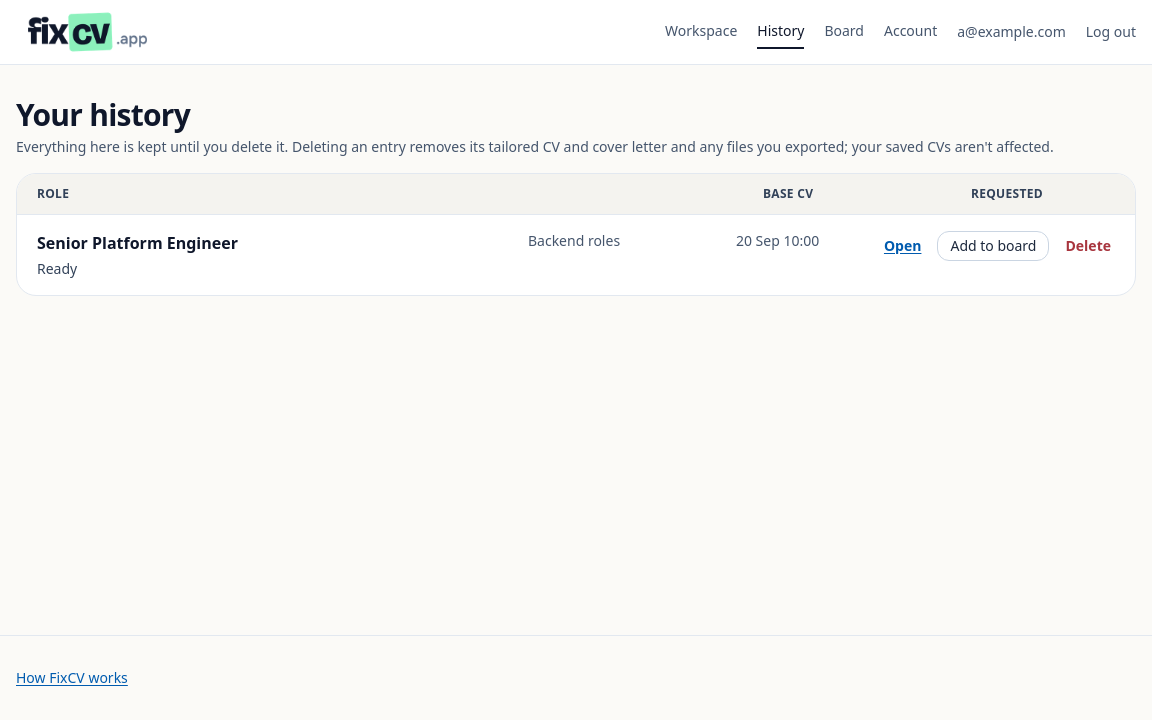
Scenario: HistoryPage — deleting an entry (AC-45) › confirming sends DELETE with the bearer; the row says "Deleting…" and stays until the answer
Expected: the text "Senior Platform Engineer" is shown, [37,231,238,255]
Click the button "Delete".
click(1088, 246)  # box [1062,236,1115,256]
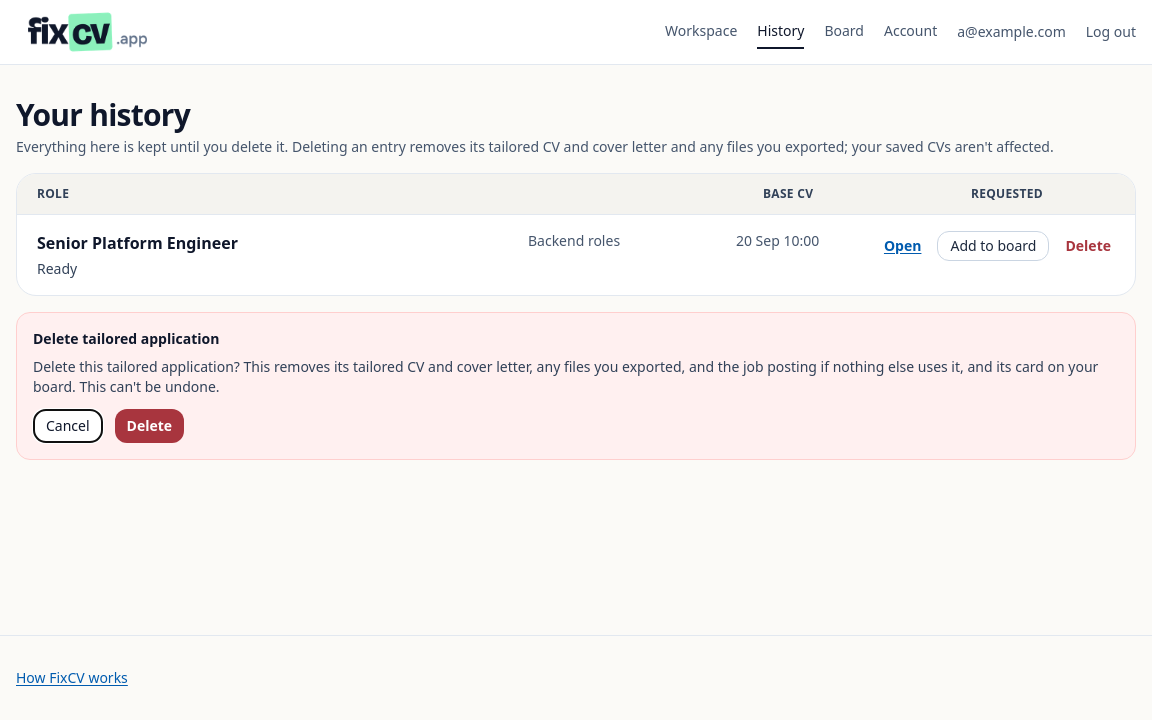
Click the button "Delete" below "Delete tailored application".
click(149, 426)  # box [115,409,184,443]
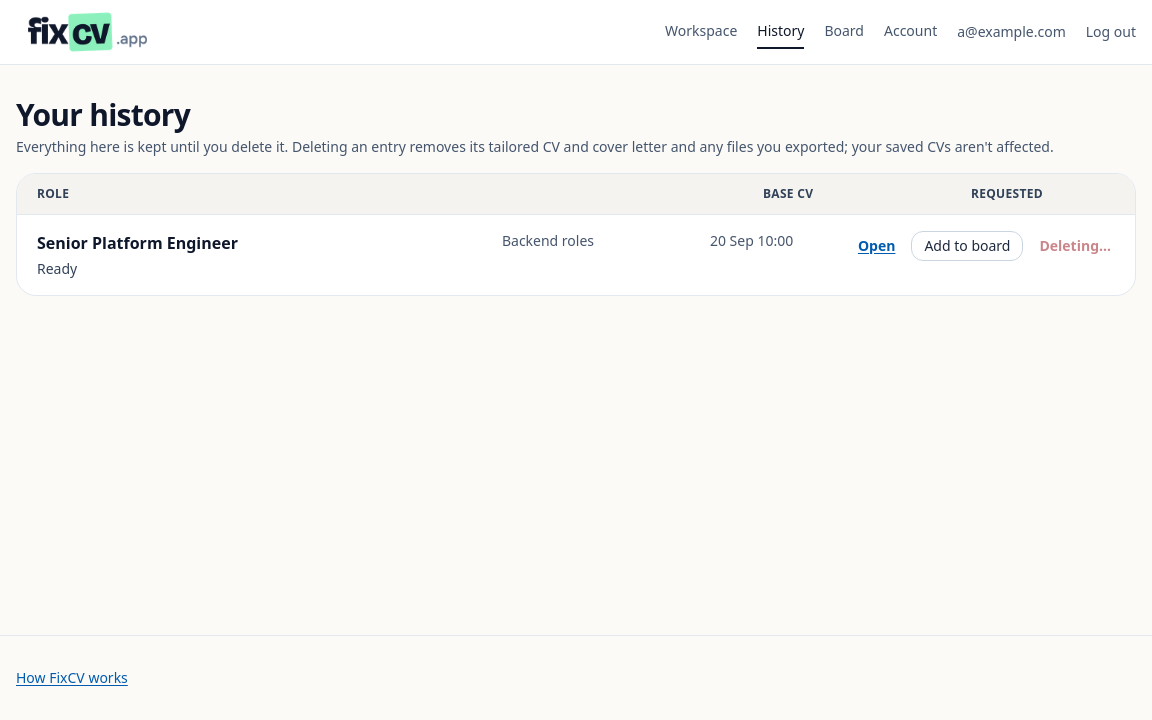
Expected: the text "Senior Platform Engineer" is shown, [37,231,238,255]
Expected: the button "Deleting…" is shown, [1035,236,1115,256]
